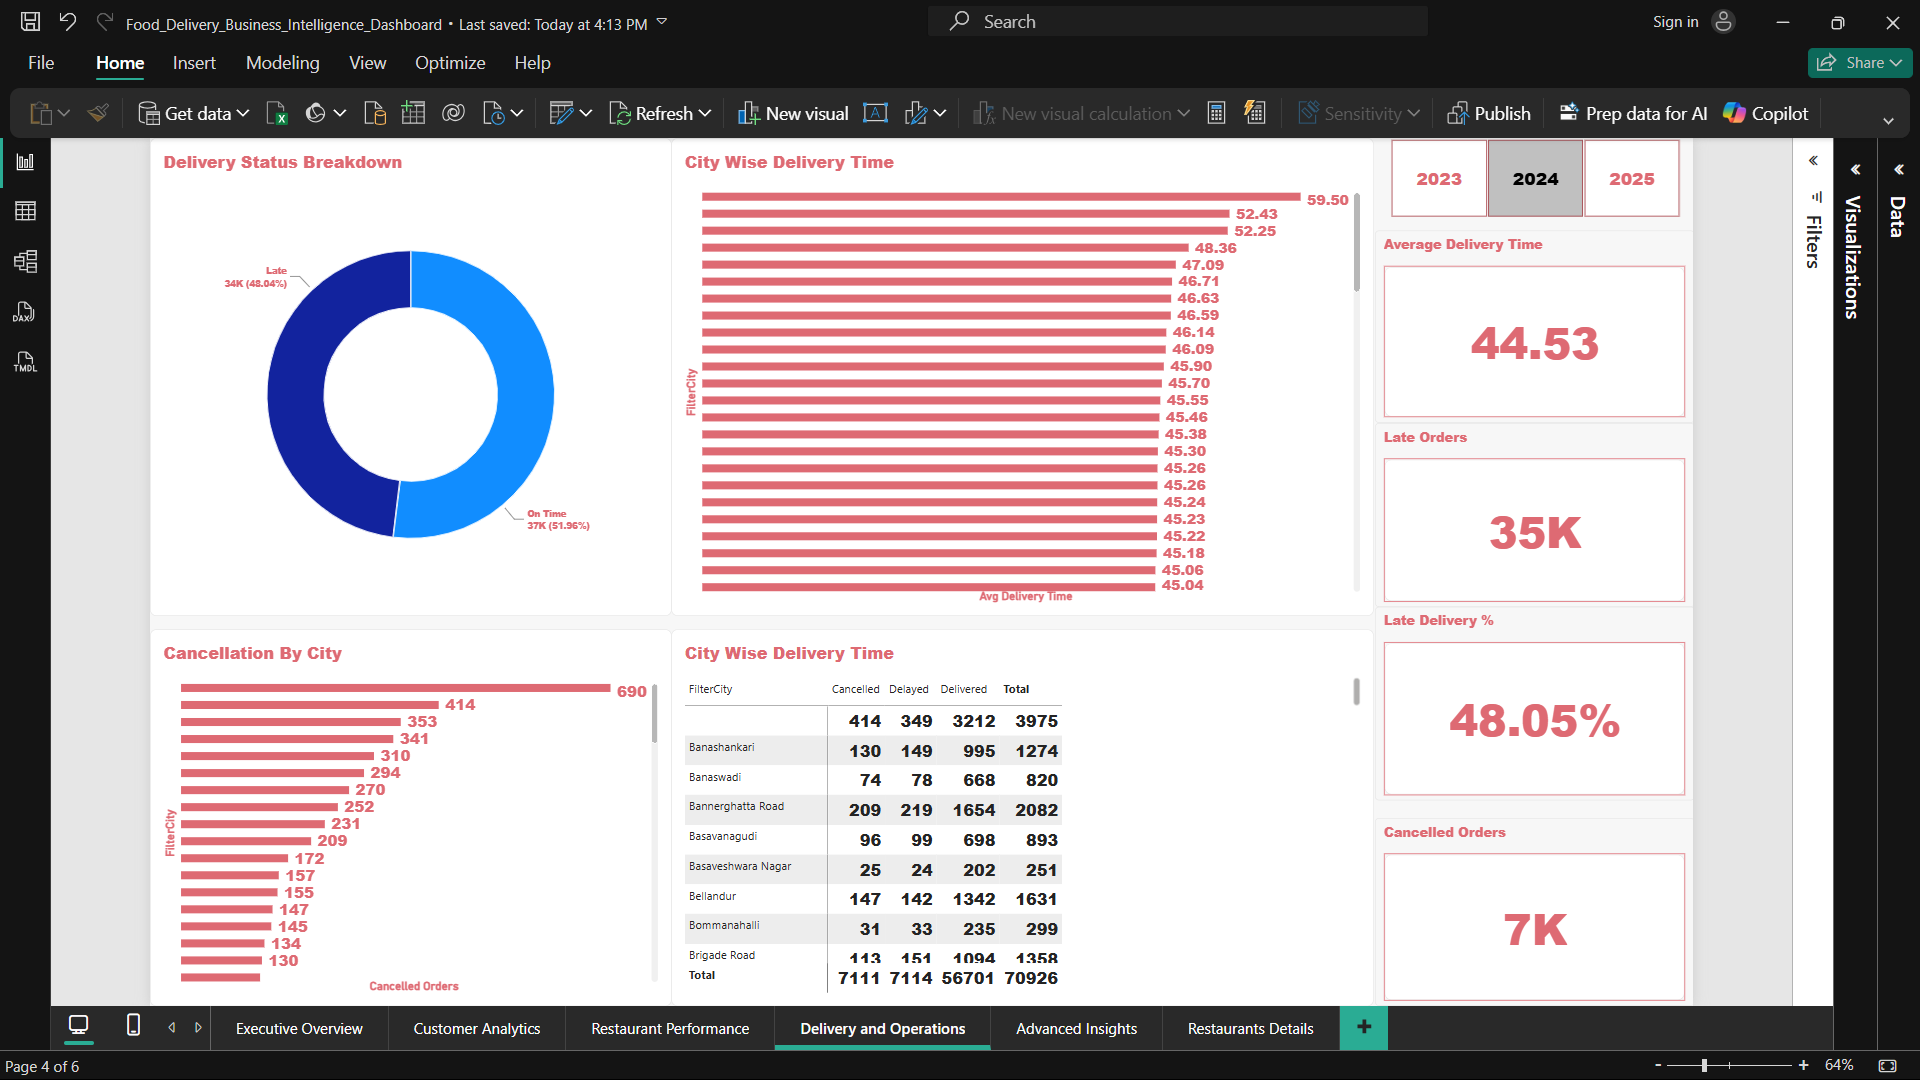

The dashboard page shown, as its layout file describes it:
{"tool":"powerbi","page":{"name":"Delivery and Operations","canvas":[1920,1080],"ordinal":3},"visuals":[{"type":"cardVisual","title":"Average Delivery Time","fields":{"Data":["Orders.Avg Delivery Time"]},"box":[1522.7,115.1,397.7,239],"z":0},{"type":"cardVisual","title":"Late Orders","fields":{"Data":["Orders.Late Orders"]},"box":[1522.7,354.1,397.7,228.5],"z":1000},{"type":"cardVisual","title":"Late Delivery %","fields":{"Data":["Orders.Late Delivery %"]},"box":[1522.7,582.6,397.7,240.7],"z":2000},{"type":"cardVisual","title":"Cancelled Orders","fields":{"Data":["Orders.Cancelled Orders"]},"box":[1522.7,845.9,397.7,233.7],"z":3000},{"type":"barChart","title":"Cancellation By City","fields":{"Category":["Customers.FilterCity"],"Y":["Orders.Cancelled Orders"]},"box":[0,610.5,648.8,469.2],"z":4000},{"type":"donutChart","title":"Delivery Status Breakdown","fields":{"Category":["Orders.Delivery Status"],"Y":["Orders.Total Orders"]},"box":[0,0,648.8,594.8],"z":5000},{"type":"barChart","title":"City Wise Delivery Time","fields":{"Y":["Orders.Avg Delivery Time"],"Category":["Customers.FilterCity"]},"box":[648.8,0,873.8,594.8],"z":6000},{"type":"pivotTable","title":"City Wise Delivery Time","fields":{"Rows":["Customers.FilterCity"],"Values":["Orders.Total Orders"],"Columns":["Orders.OrderStatus"]},"box":[648.8,610.5,873.8,469.2],"z":7000},{"type":"slicer","fields":{"Values":["DateTable.Date.Variation.Date Hierarchy.Year"]},"box":[1522.7,0,397.7,99.4],"z":8000}]}

Visuals, with their boxes on the page's 1920x1080 design canvas (x1, y1, x2, y2). These are canvas units, not pixel positions in the 1920x1080 screenshot, which may show the page scaled, cropped or inside an application window:
"Average Delivery Time" cardVisual: bbox=(1523, 115, 1920, 354)
"Late Orders" cardVisual: bbox=(1523, 354, 1920, 583)
"Late Delivery %" cardVisual: bbox=(1523, 583, 1920, 823)
"Cancelled Orders" cardVisual: bbox=(1523, 846, 1920, 1080)
"Cancellation By City" barChart: bbox=(0, 610, 649, 1080)
"Delivery Status Breakdown" donutChart: bbox=(0, 0, 649, 595)
"City Wise Delivery Time" barChart: bbox=(649, 0, 1523, 595)
"City Wise Delivery Time" pivotTable: bbox=(649, 610, 1523, 1080)
slicer - DateTable.Date.Variation.Date Hierarchy.Year: bbox=(1523, 0, 1920, 99)
